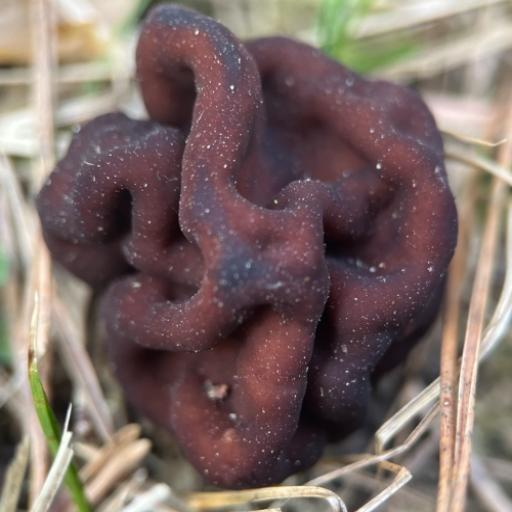mushroom: (31, 2, 459, 493)
